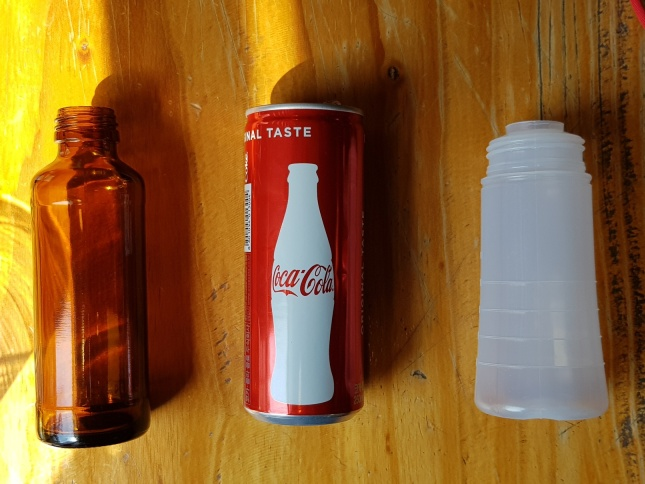Can: (237, 101, 369, 429)
Glass: (23, 103, 154, 449)
Plastic: (466, 116, 616, 425)
